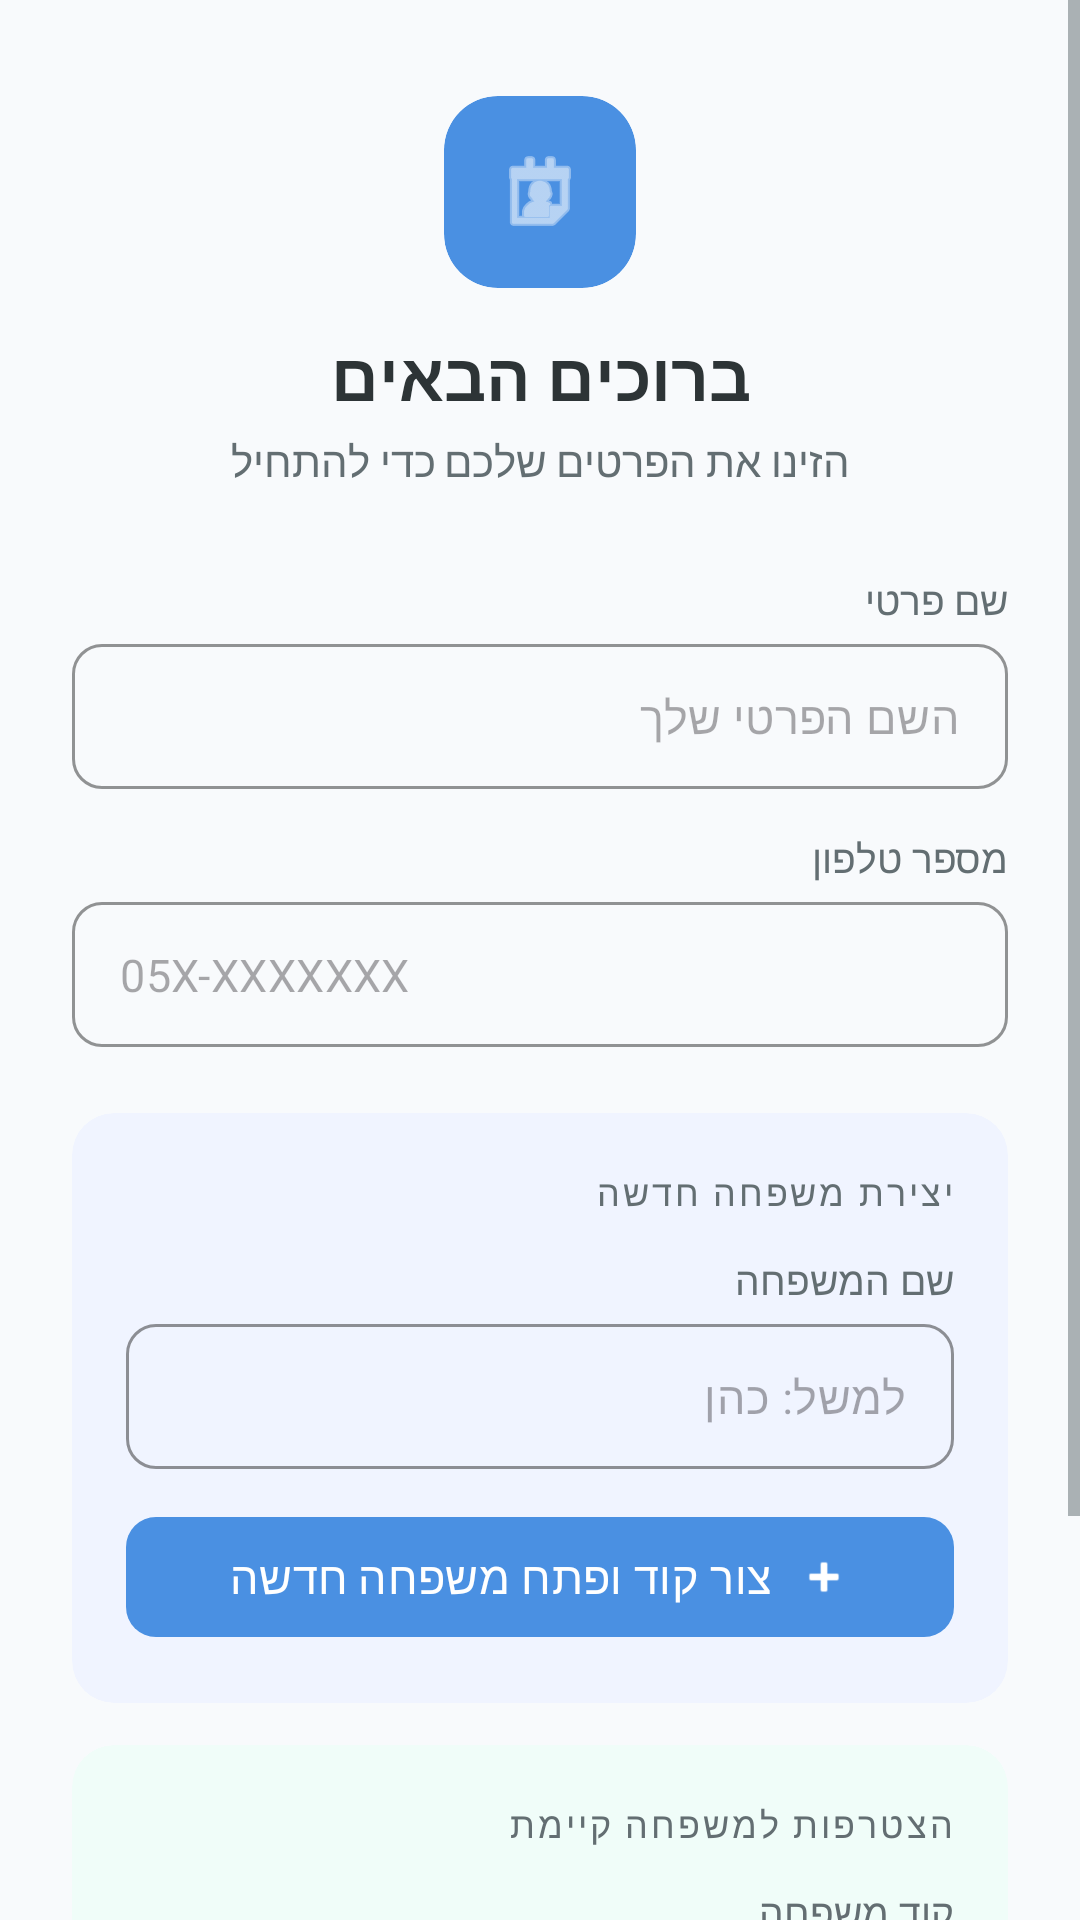

Screen size 1080px x 1920px. Icon name, then its box in pixels as (x1, y1, x2, y2):
calendar: (509, 156, 571, 226)
